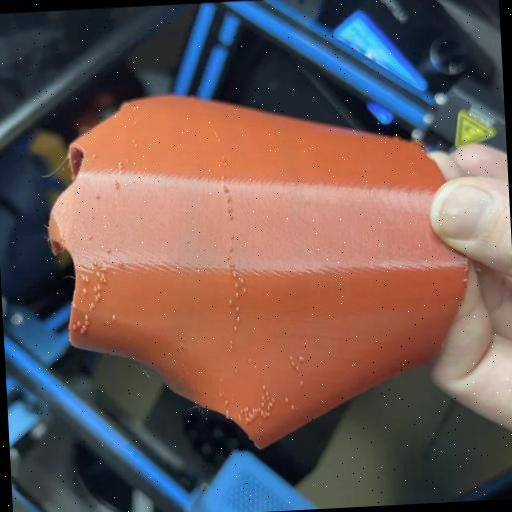blobs: (80, 271, 92, 285), (226, 337, 236, 352), (98, 274, 110, 286), (112, 178, 122, 190), (114, 160, 124, 172), (80, 283, 90, 294), (92, 284, 103, 294), (250, 405, 261, 415), (78, 325, 90, 334), (108, 312, 118, 322), (233, 302, 243, 312), (93, 190, 102, 201), (104, 243, 112, 254), (88, 301, 96, 312), (95, 292, 103, 302), (240, 284, 248, 294), (223, 185, 231, 195), (222, 408, 230, 418), (298, 353, 306, 363), (240, 404, 248, 414), (235, 313, 242, 323), (234, 278, 241, 288), (90, 260, 98, 268), (94, 270, 102, 278), (84, 318, 92, 326), (218, 392, 226, 400), (298, 380, 306, 388), (289, 404, 297, 412), (229, 232, 235, 242), (228, 298, 235, 306), (238, 276, 246, 283), (227, 206, 234, 214), (286, 354, 294, 361), (284, 395, 291, 403), (237, 414, 244, 422), (232, 365, 238, 374), (246, 357, 253, 364), (261, 410, 268, 417), (88, 234, 94, 242), (232, 324, 238, 332), (234, 290, 240, 298), (224, 196, 232, 202), (290, 360, 296, 368), (260, 384, 268, 390), (76, 320, 83, 326), (228, 245, 234, 252), (270, 397, 276, 404), (226, 254, 231, 262), (216, 378, 224, 383), (260, 400, 265, 408), (228, 214, 234, 220), (84, 313, 90, 318), (224, 400, 230, 405), (260, 395, 265, 399)
